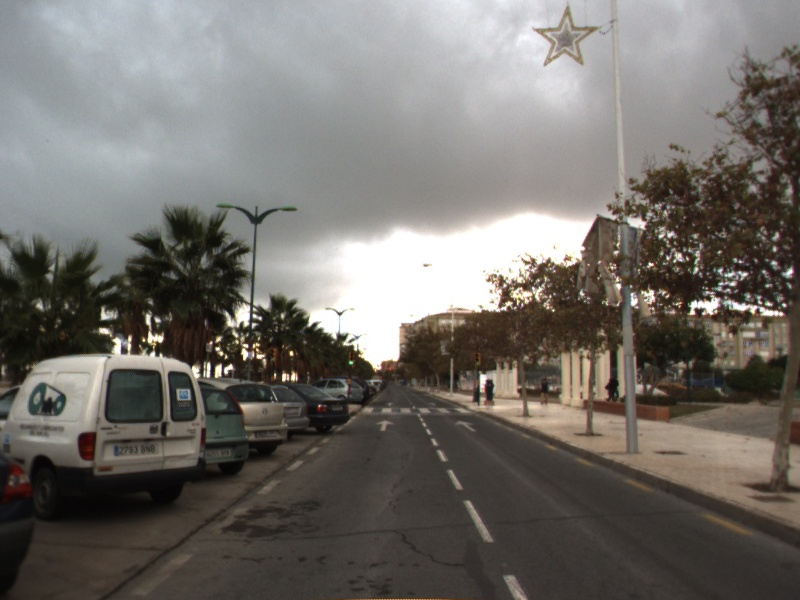STRAIGHT: (452, 418, 479, 433), (374, 418, 397, 433)
